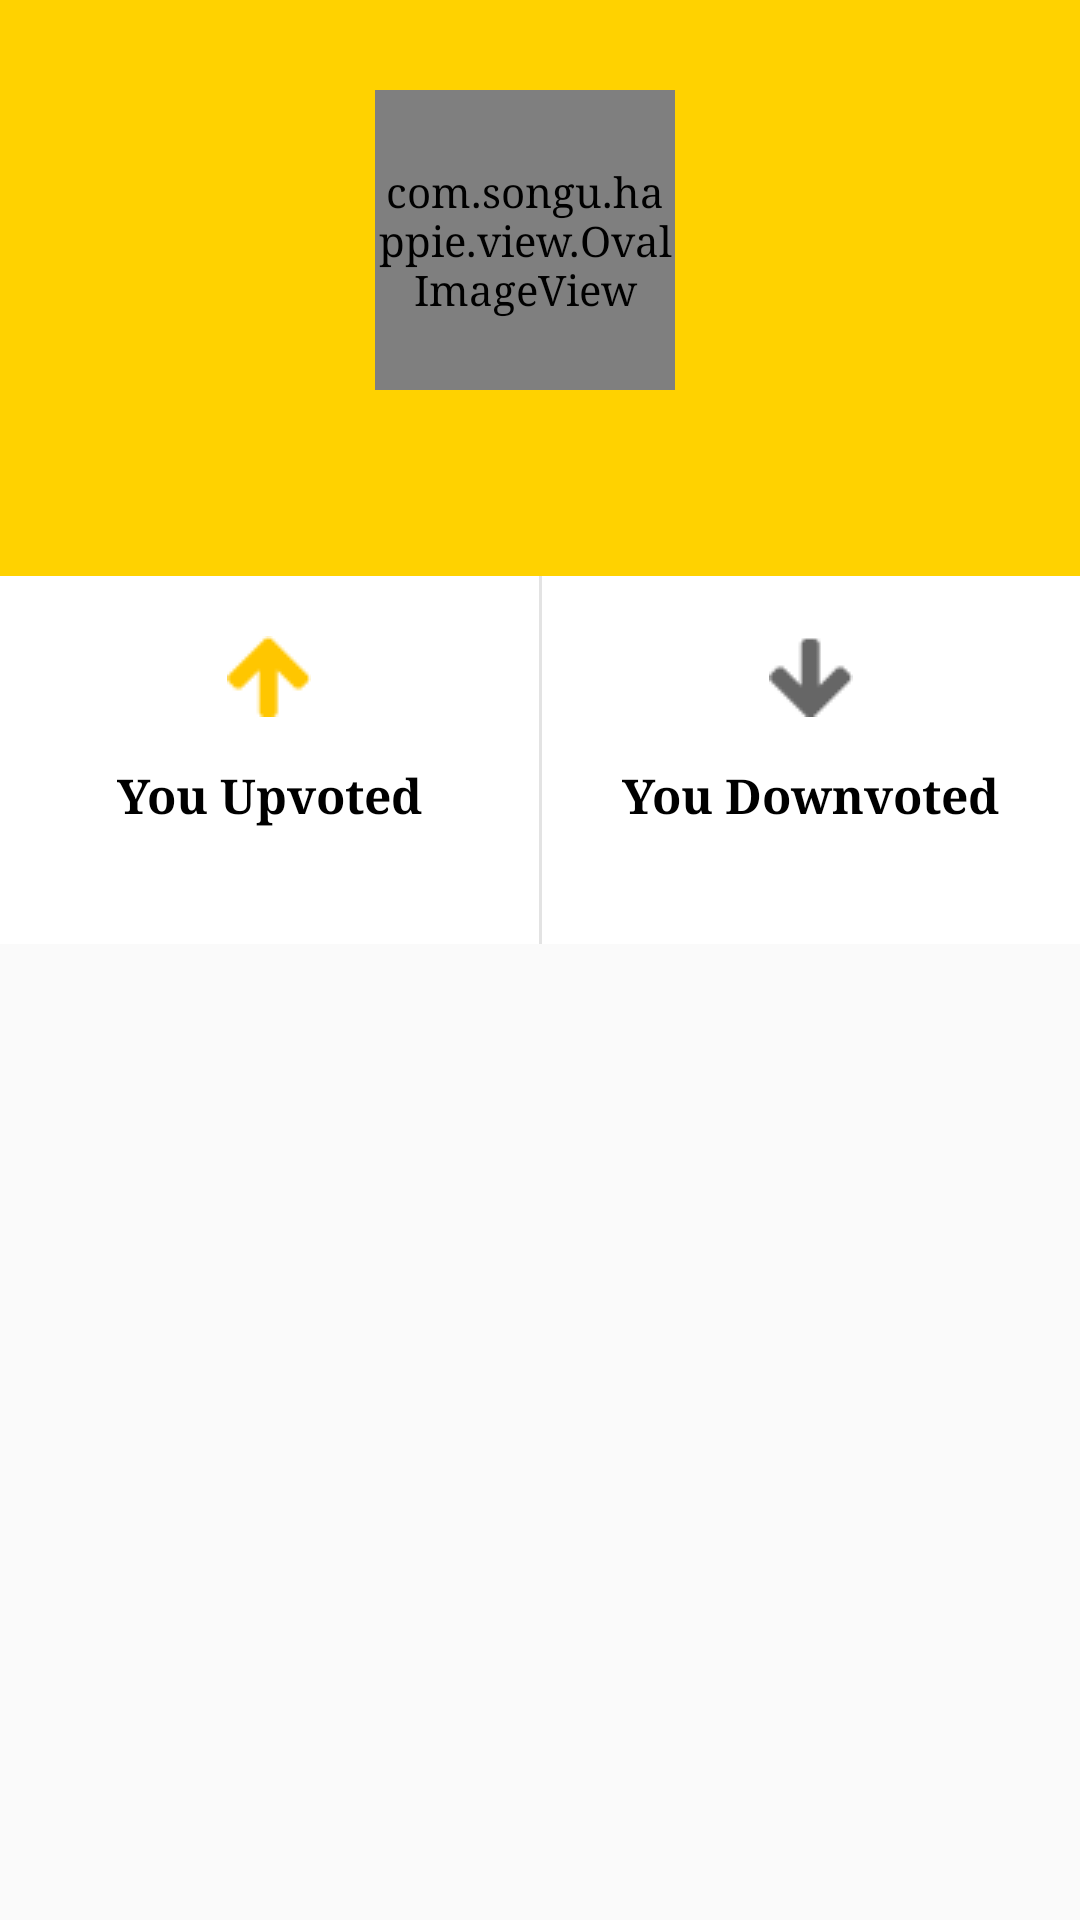

Where icons sit on this 1080px x 1920px app screen, as bbox=[x1, y1, x2, y2]:
downvote slide: bbox=[769, 638, 853, 717]
upvote slide: bbox=[227, 636, 311, 717]
